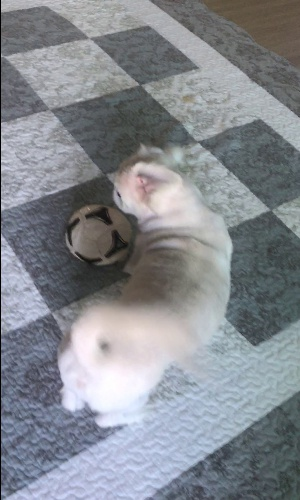ddubi: (51, 138, 238, 431)
